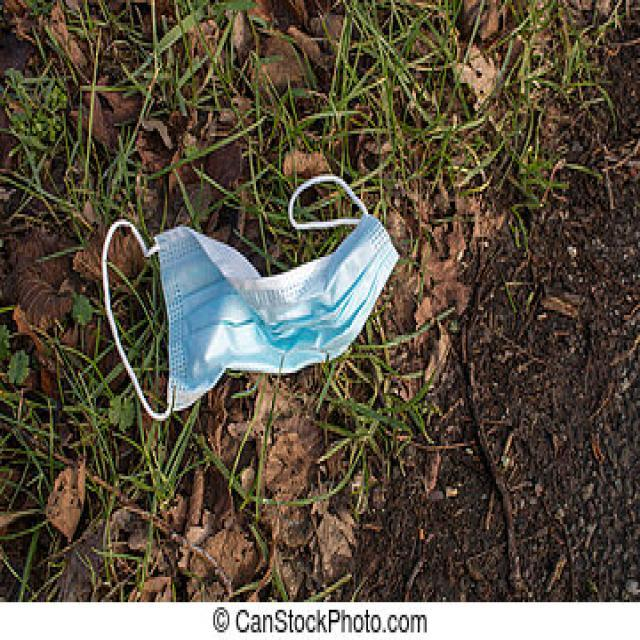face mask: (102, 179, 398, 436)
